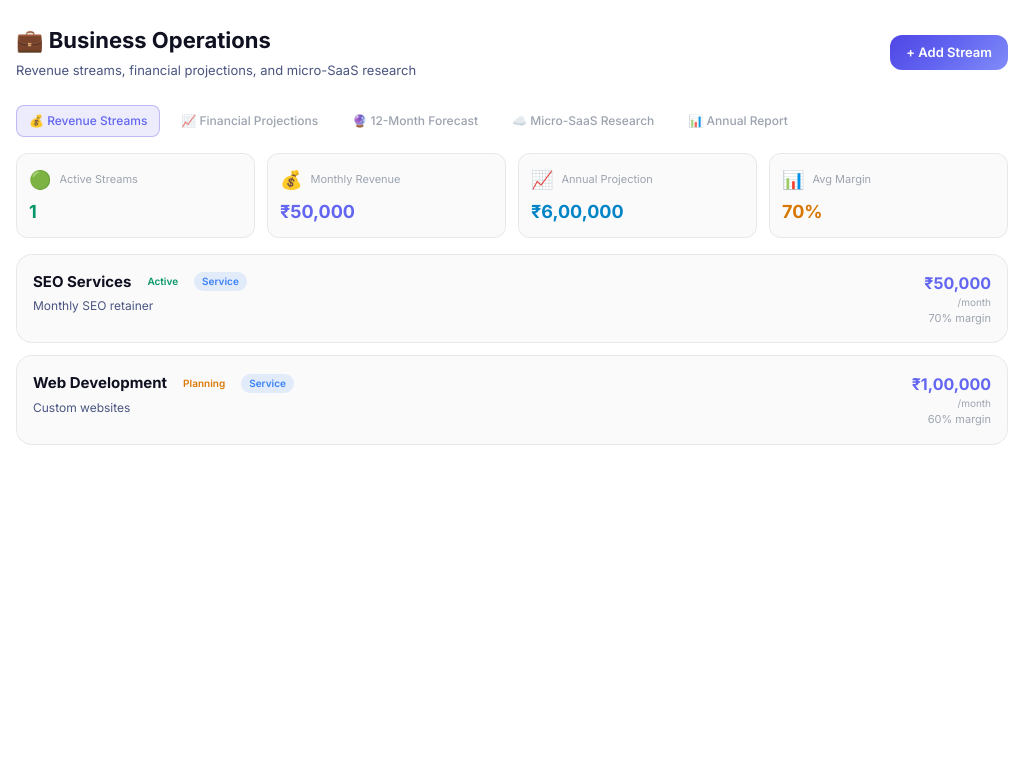
Test case: BusinessTab › view tab switching › switches to forecast view
Click the button "🔮 12-Month Forecast".
click(415, 120)  # box top-left (339, 104), bottom-right (491, 136)
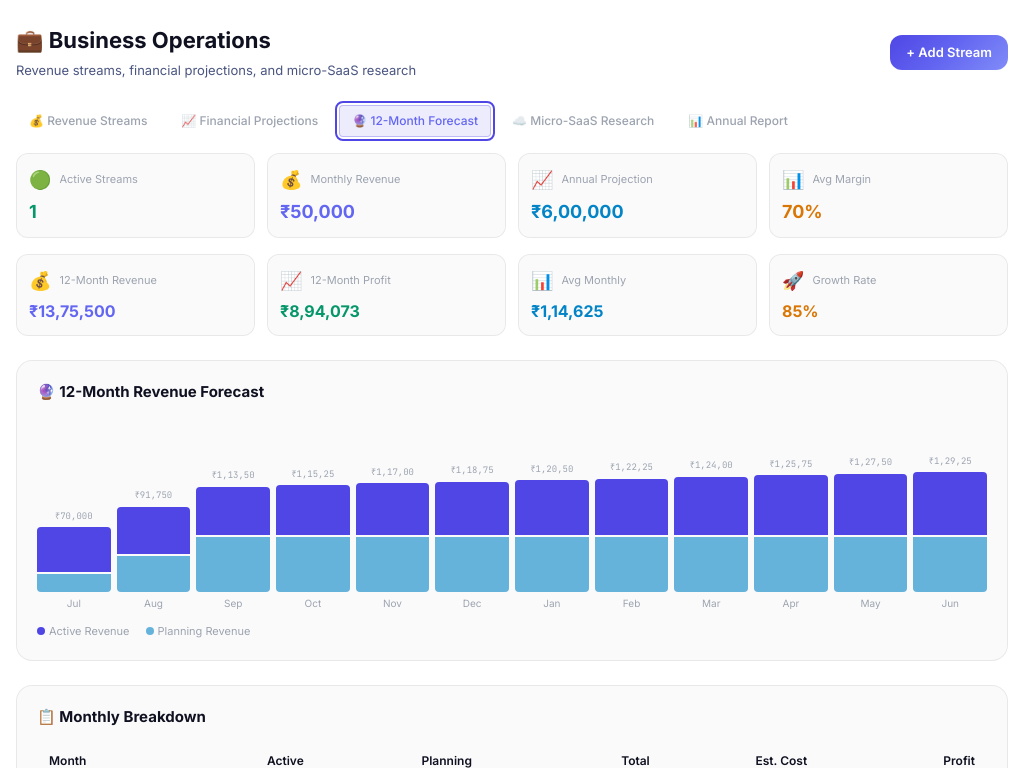
Expected: the heading "🔮 12-Month Revenue Forecast" is shown, top-left (37, 382), bottom-right (264, 400)
Expected: the heading "📋 Monthly Breakdown" is shown, top-left (37, 706), bottom-right (206, 726)
